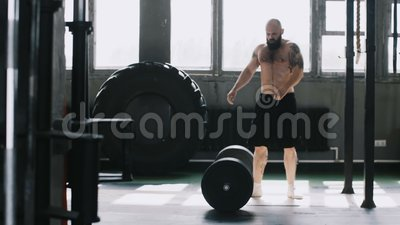barbell: (199, 157, 255, 215)
